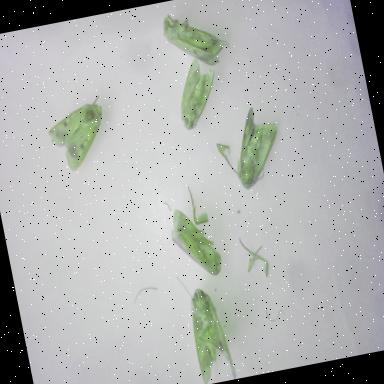abw: (208, 100, 290, 195), (40, 90, 116, 178), (180, 281, 241, 384), (155, 0, 235, 78), (164, 198, 226, 285), (168, 55, 228, 138)
